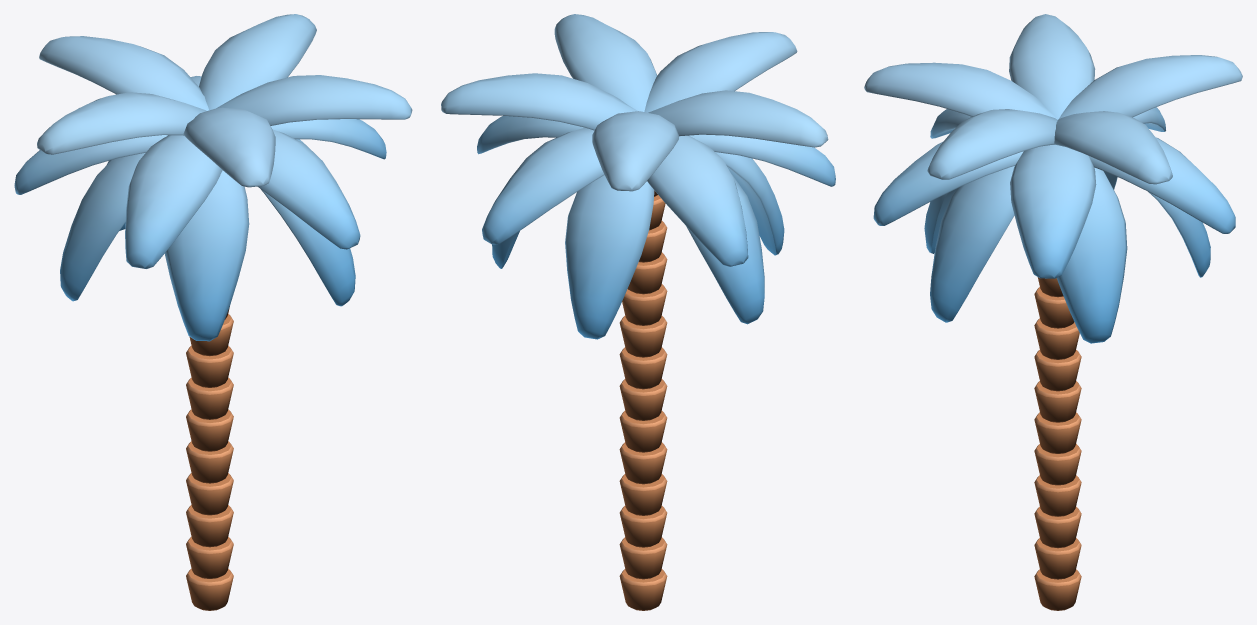
File: lpb_tree_2_d.fbx
3 views of the same model, side by side, from view 1: azimuth 30°, elevation 25°; view 2: azimuth 150°, elevation 25°; view 3: azimuth 270°, elevation 25° (orthographic).
Parts seen in each view (by area): view 1: ap_tree_2.003; view 2: ap_tree_2.003; view 3: ap_tree_2.003.
Part boxes in pixels (x1,y1,x2,y2): ap_tree_2.003: (14, 14, 412, 610); ap_tree_2.003: (441, 14, 835, 610); ap_tree_2.003: (864, 14, 1242, 610).
Size of the model in its own units: 404 by 594 by 390.
